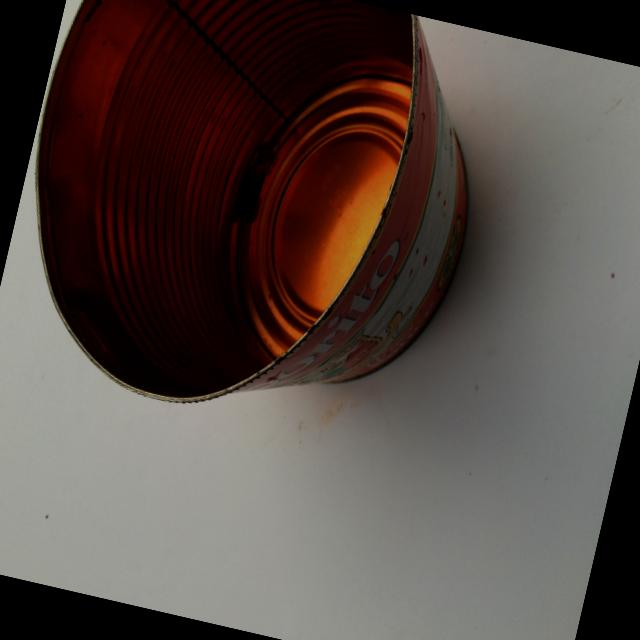Metal: (0, 0, 524, 472)
